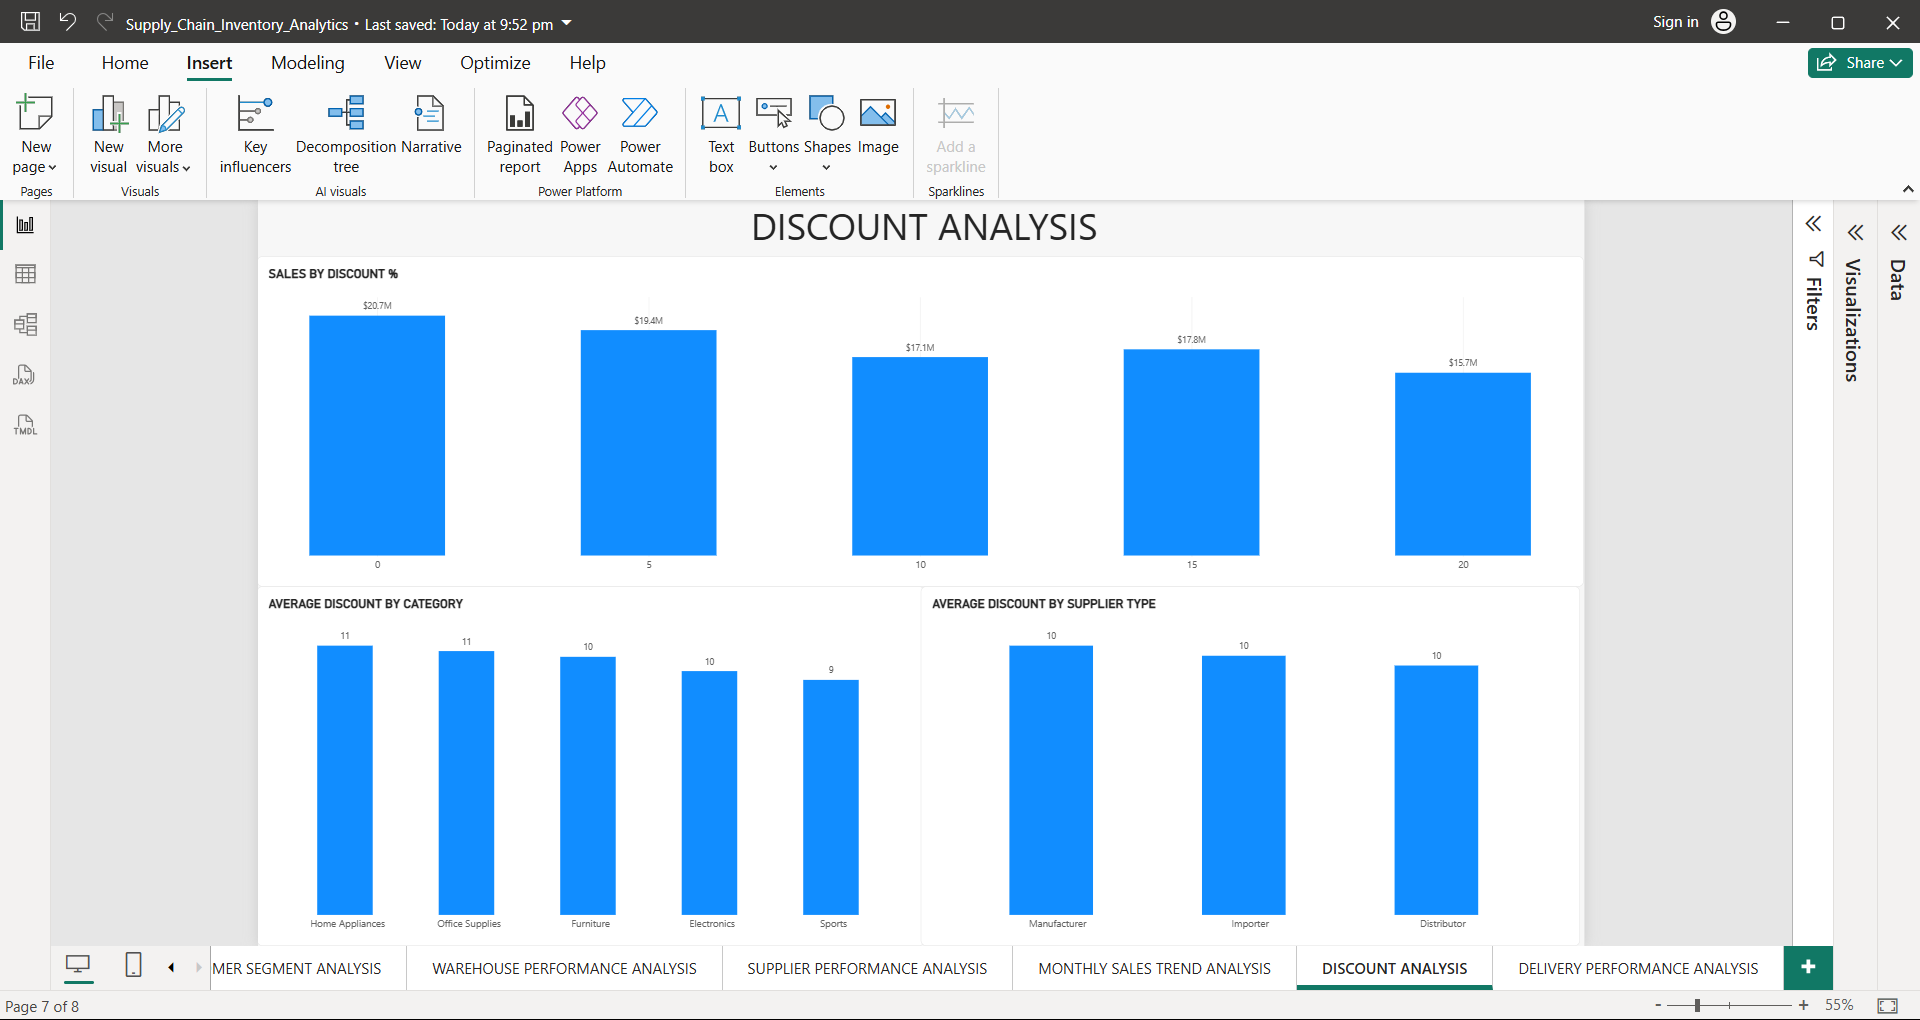

What the dashboard file says about the page in this screenshot:
{"tool":"powerbi","page":{"name":"DISCOUNT ANALYSIS","canvas":[1920,1080],"ordinal":6},"visuals":[{"type":"textbox","box":[10.3,0,1910.1,80.3],"z":0},{"type":"clusteredColumnChart","title":"AVERAGE DISCOUNT BY CATEGORY","fields":{"Category":["Product.Category"],"Y":["Avg(Orders.DiscountPct)"]},"box":[0,559.1,966.3,520.6],"z":1},{"type":"clusteredColumnChart","title":"SALES BY DISCOUNT %","fields":{"Category":["Orders.DiscountPct"],"Y":["Business Measures.Total Sales"]},"box":[0,81,1920.4,478.1],"z":2},{"type":"clusteredColumnChart","title":"AVERAGE DISCOUNT BY SUPPLIER TYPE","fields":{"Category":["Supplier.SupplierType"],"Y":["Avg(Orders.DiscountPct)"]},"box":[960.2,559.1,954.1,520.6],"z":3}]}

Visuals, with their boxes on the page's 1920x1080 design canvas (x1, y1, x2, y2). These are canvas units, not pixel positions in the 1920x1020 screenshot, which may show the page scaled, cropped or inside an application window:
textbox: BBox(10, 0, 1920, 80)
"AVERAGE DISCOUNT BY CATEGORY" clusteredColumnChart: BBox(0, 559, 966, 1080)
"SALES BY DISCOUNT %" clusteredColumnChart: BBox(0, 81, 1920, 559)
"AVERAGE DISCOUNT BY SUPPLIER TYPE" clusteredColumnChart: BBox(960, 559, 1914, 1080)
